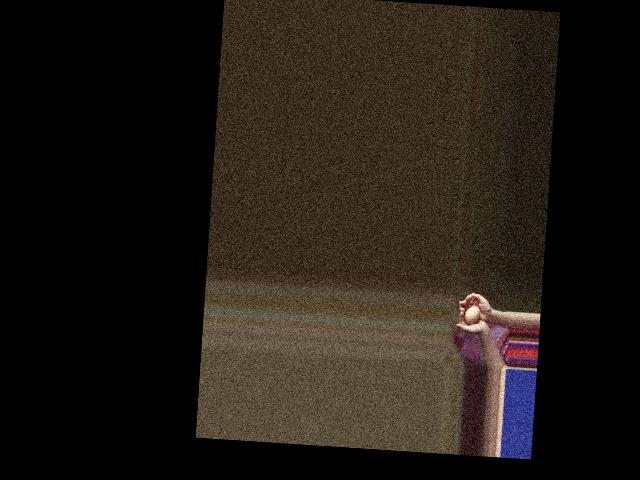egg: (463, 305, 479, 325)
